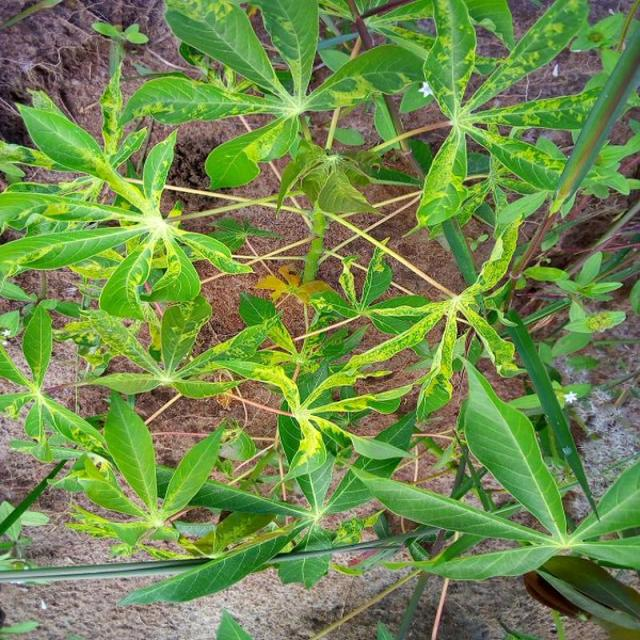cassava leaf: (0, 1, 638, 636), (462, 356, 567, 542)
